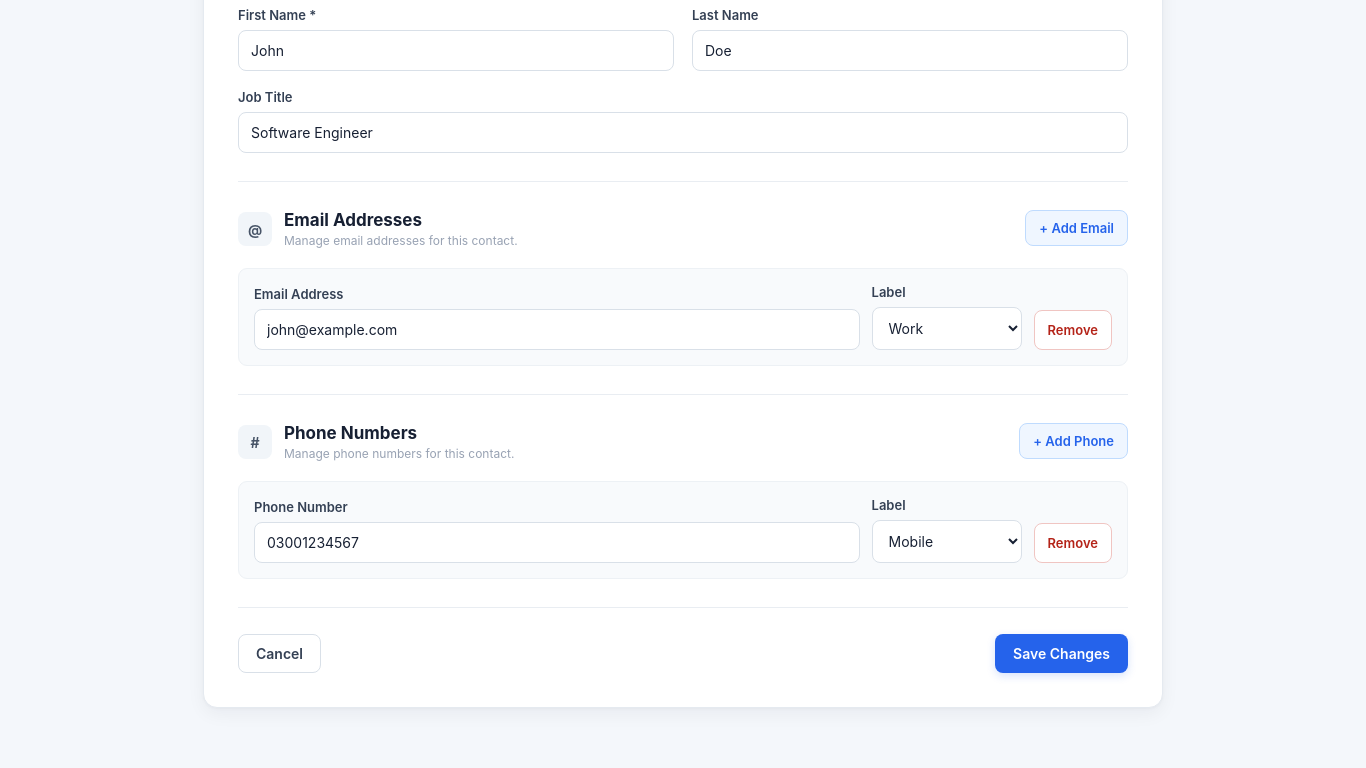
Test: EditContact › shows validation error when phone is empty
(page scrolled)
Clear the field labelled "Phone Number" at {"x": 557, "y": 542}, box 254,522 -> 860,563
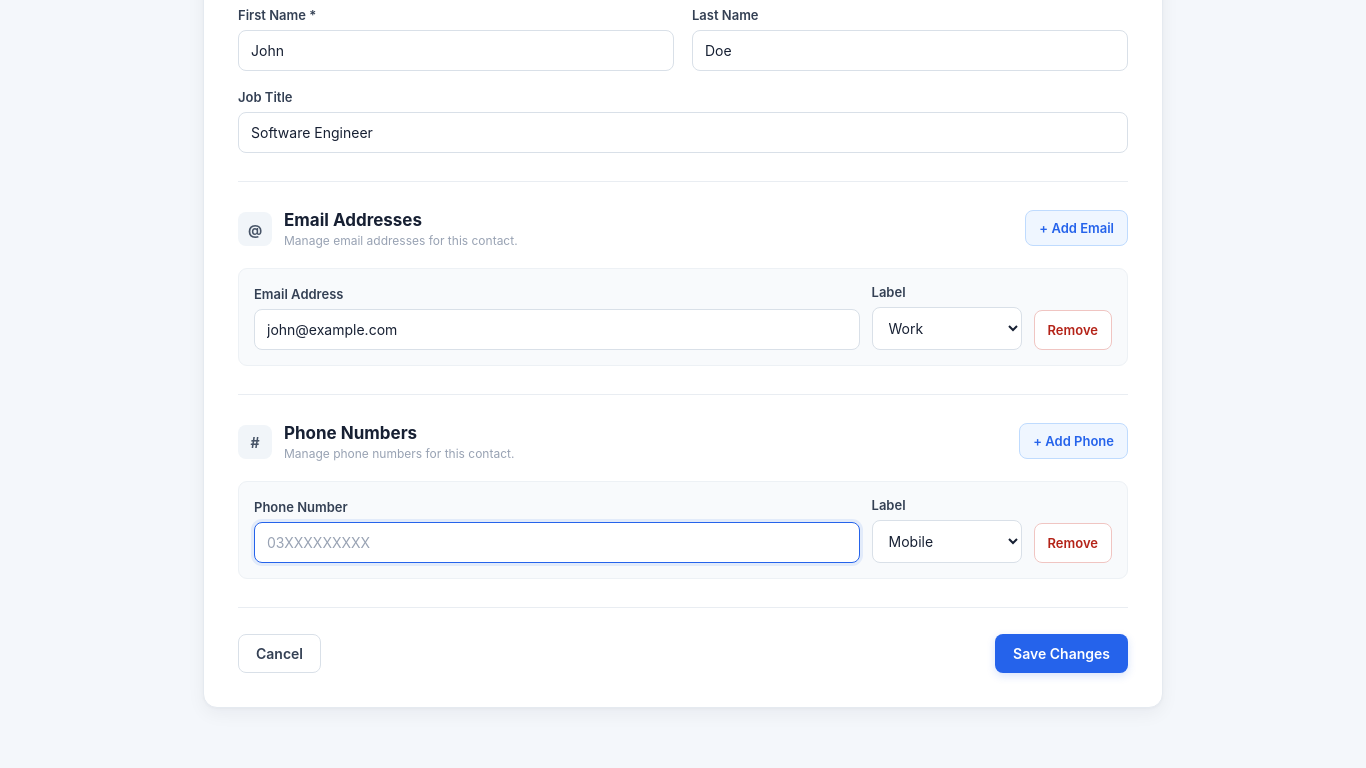
Click the button "Save Changes".
click(1062, 654)  # box 995,634 -> 1128,673
(page scrolled)
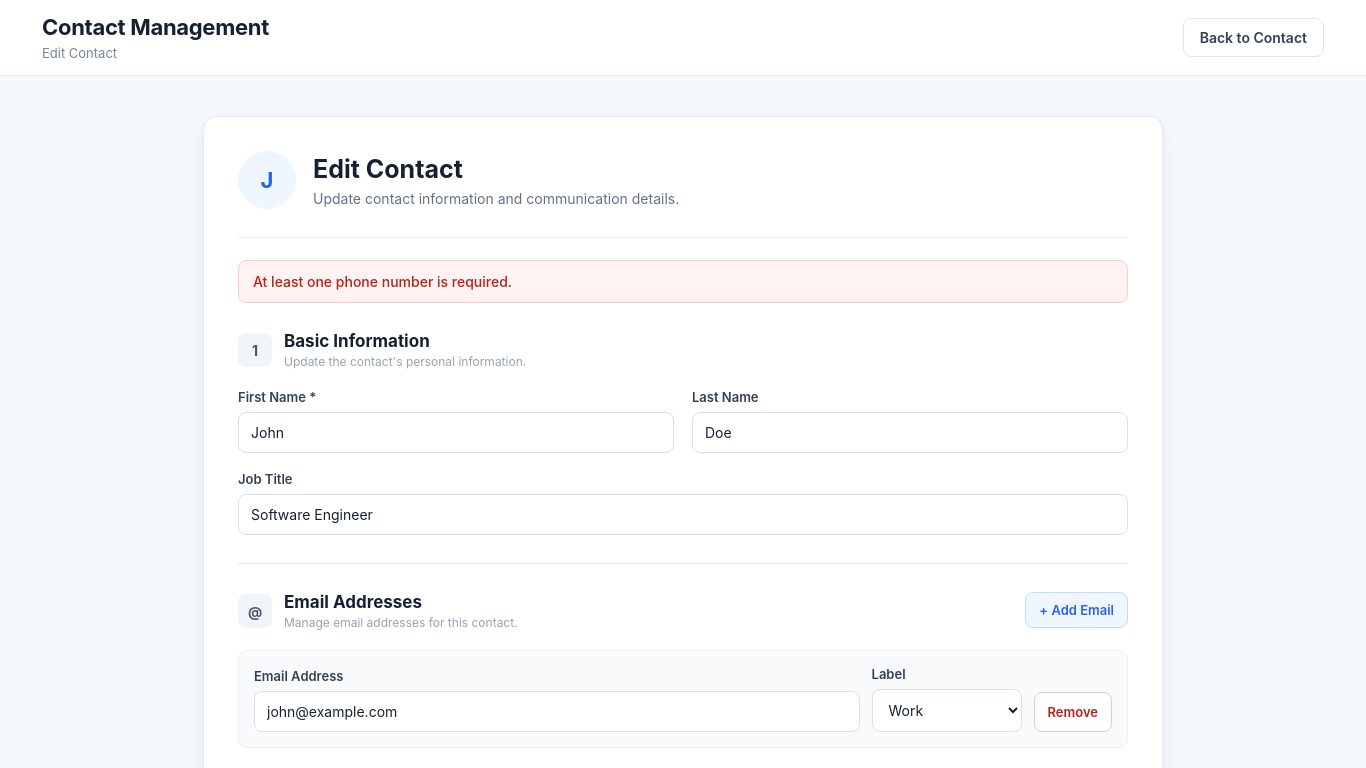
Result: the text "At least one phone number is required." is shown at 238,260 -> 1128,303
